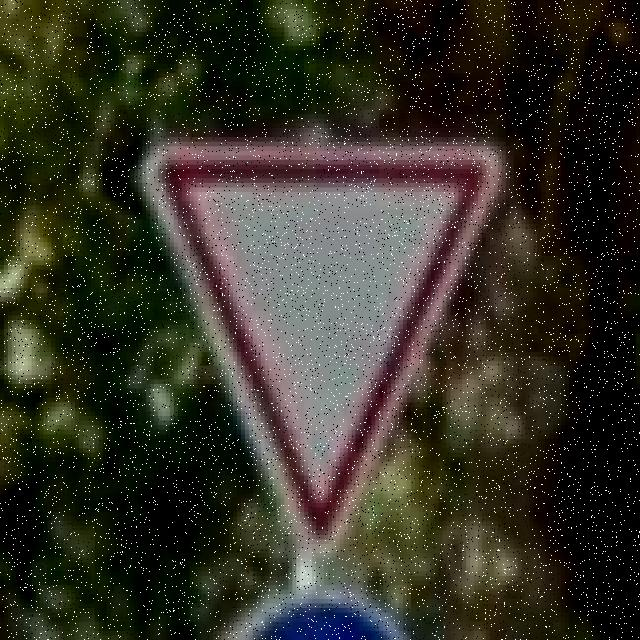Ustap pierwszenstwa: (134, 137, 510, 553)
